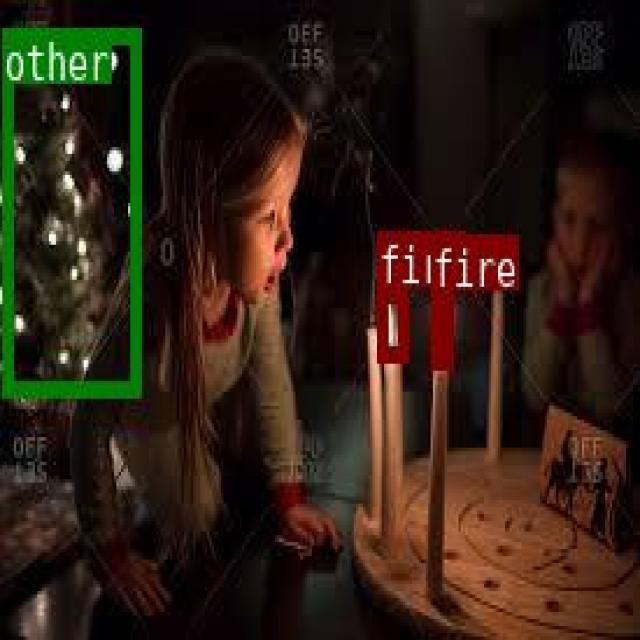fire: (376, 286, 406, 359), (431, 288, 451, 365)
